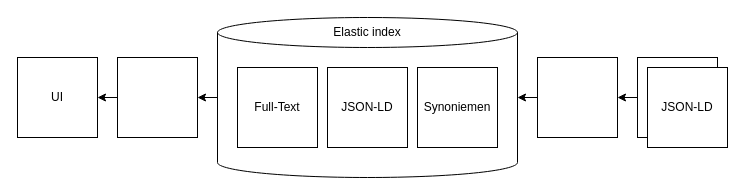
The diagram is 745 pixels wide and 195 high, and some of its shapes have lost their labels. Here are the shapes that lost their labels. From the top down, the box of each, then its label:
(116, 56, 198, 138): API
(536, 56, 618, 138): Ingest API
